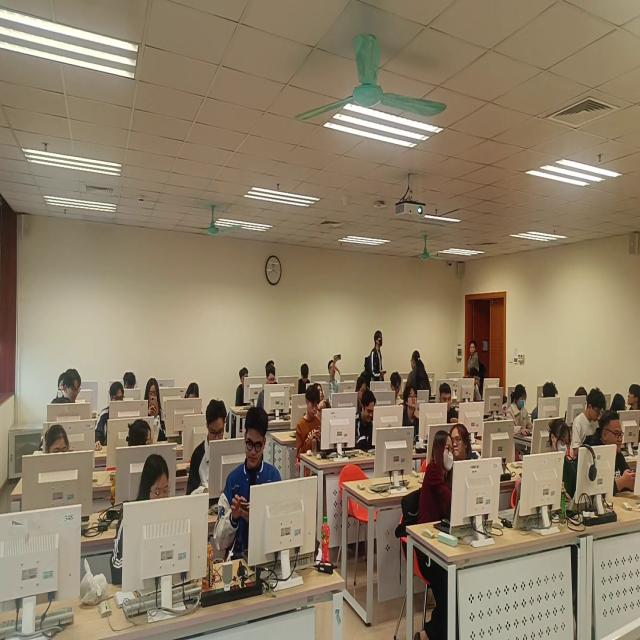raise_head: (403, 382, 422, 440), (318, 378, 331, 419)
stand: (406, 346, 433, 398), (366, 324, 386, 385), (467, 339, 486, 380)
using_computer: (111, 452, 173, 589), (187, 395, 230, 500), (549, 417, 579, 502), (571, 388, 606, 454), (95, 380, 126, 450), (355, 390, 380, 453), (506, 383, 533, 438), (531, 383, 560, 421), (44, 423, 73, 460), (258, 365, 279, 410), (61, 370, 85, 407), (440, 382, 459, 425), (236, 365, 252, 405), (609, 388, 629, 416), (184, 380, 206, 405), (390, 369, 402, 407), (297, 362, 312, 392), (472, 368, 483, 402), (354, 375, 367, 403), (124, 372, 139, 391)
using_phone: (215, 404, 284, 563), (585, 406, 635, 499), (298, 382, 325, 463), (148, 371, 169, 441), (329, 350, 348, 401)
